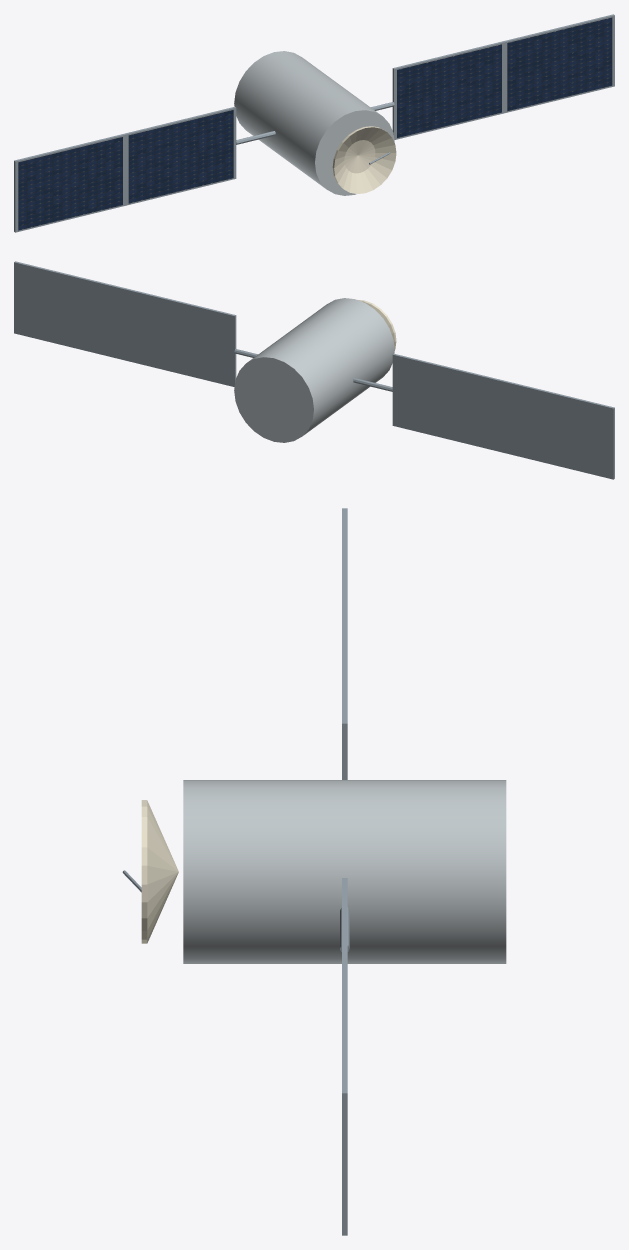
File: ref-new-orion-39652.glb
3 views of the same model, one above another, from view 1: azimuth 30°, elevation 25°; view 2: azimuth 150°, elevation 25°; view 3: azimuth 270°, elevation 25° (orthographic). The views are drawn at different scales.
Parts seen in each view (by area): view 1: Photovoltaic laminates (×4), Spacecraft body, Array frame (×4), Reflector dish; view 2: Array frame (×4), Spacecraft body; view 3: Spacecraft body, Reflector dish, Array frame (×2).
Part boxes in pixels (bbox=[...]): Photovoltaic laminates (×4): bbox=[18, 17, 612, 230]; Spacecraft body: bbox=[234, 51, 394, 195]; Array frame (×4): bbox=[14, 14, 614, 232]; Reflector dish: bbox=[332, 126, 396, 193]; Array frame (×4): bbox=[14, 261, 614, 479]; Spacecraft body: bbox=[234, 298, 394, 442]; Spacecraft body: bbox=[183, 780, 506, 963]; Reflector dish: bbox=[141, 800, 178, 943]; Array frame (×2): bbox=[342, 616, 347, 1235].
Bounding box in the file's own units: 30 × 4 × 8.31.
4 materials, 1 textured.
